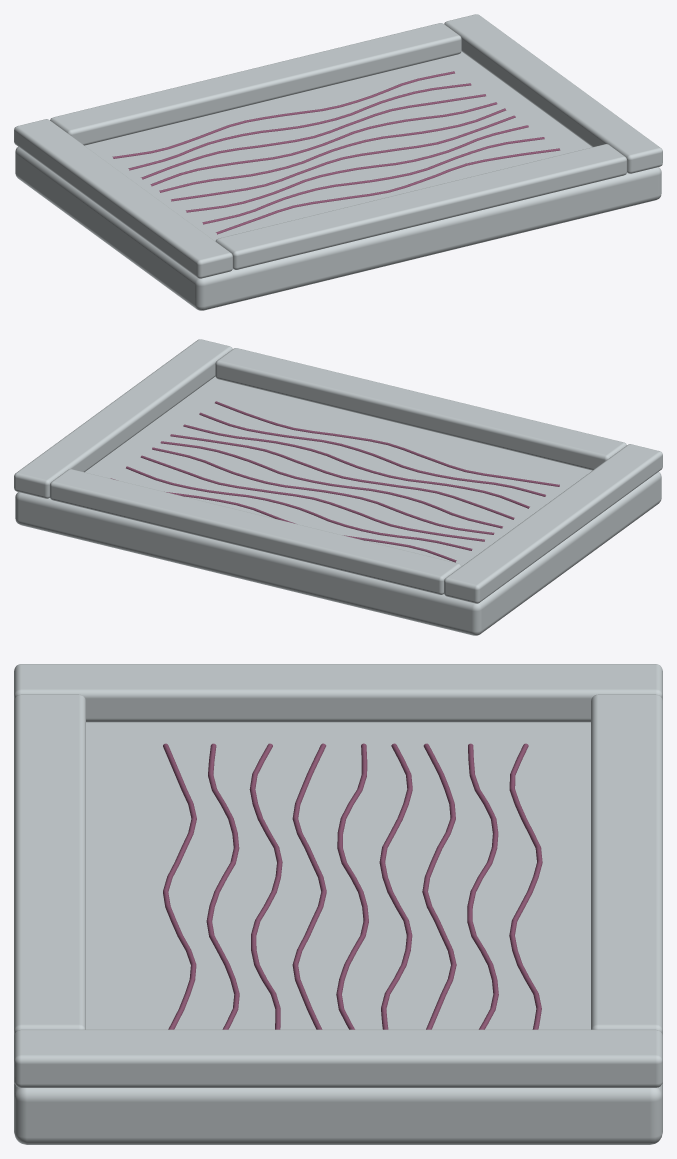
Rendered from bookbinding-and-paper-mill-marbled-paper-tray-9676e1bf__30591.glb.
3 renders of one model, top to bottom at view 1: azimuth 30°, elevation 25°; view 2: azimuth 150°, elevation 25°; view 3: azimuth 270°, elevation 25°, orthographic. The views are drawn at different scales.
Visible parts, largest first — view 1: marbled-paper-tray; view 2: marbled-paper-tray; view 3: marbled-paper-tray.
Part boxes in pixels (box(x1,y1,x2,y2)): marbled-paper-tray: box(14, 14, 662, 310); marbled-paper-tray: box(14, 339, 662, 635); marbled-paper-tray: box(14, 664, 662, 1144).
Bounding box in the file's own units: 0.65 × 0.07 × 0.45.
